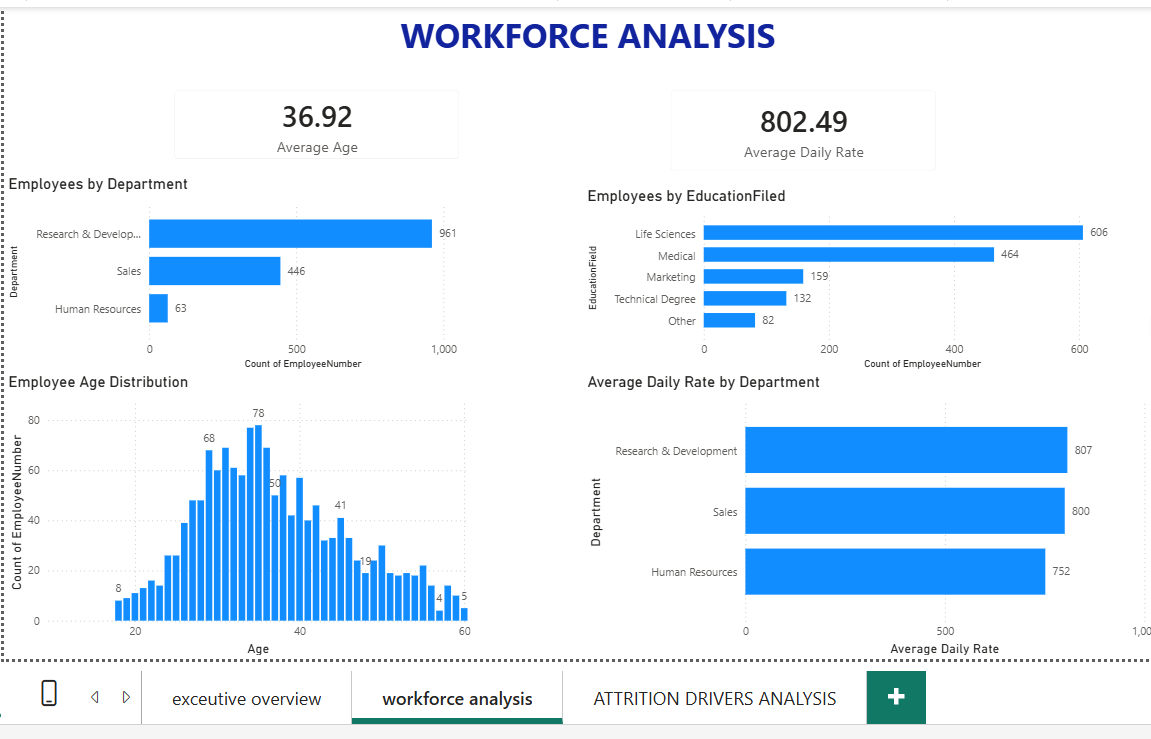

This screenshot's page, from the dashboard's own definition file:
{"tool":"powerbi","page":{"name":"workforce analysis","canvas":[1280,720],"ordinal":1},"visuals":[{"type":"textbox","box":[9.4,0,1269.9,75.6],"z":0},{"type":"cardVisual","fields":{"Data":["hr analytics.average age"]},"box":[171,75.4,349.3,110.3],"z":1000},{"type":"cardVisual","fields":{"Data":["hr analytics.average daily rate"]},"box":[718.7,75.4,327.2,123.2],"z":2000},{"type":"barChart","title":"Employees by Department","fields":{"Category":["hr analytics.Department"],"Y":["CountNonNull(hr analytics.EmployeeNumber)"]},"box":[0,185.7,520.2,218.7],"z":3000},{"type":"barChart","title":"Employees by EducationFiled","fields":{"Y":["Count(hr analytics.EmployeeNumber)"],"Category":["hr analytics.EducationField"]},"box":[639.7,198.5,639.7,205.9],"z":4000},{"type":"columnChart","title":"Employee Age Distribution","fields":{"Y":["Count(hr analytics.EmployeeNumber)"],"Category":["hr analytics.Age"]},"box":[0,404.4,520.2,316.2],"z":5000},{"type":"barChart","title":"Average Daily Rate by Department","fields":{"Category":["hr analytics.Department"],"Y":["hr analytics.average daily rate"]},"box":[639.7,404.4,639.7,316.2],"z":6000}]}

Visuals, with their boxes on the page's 1280x720 design canvas (x1, y1, x2, y2). These are canvas units, not pixel positions in the 1151x739 screenshot, which may show the page scaled, cropped or inside an application window:
textbox: left=9, top=0, right=1279, bottom=76
cardVisual - hr analytics.average age: left=171, top=75, right=520, bottom=186
cardVisual - hr analytics.average daily rate: left=719, top=75, right=1046, bottom=199
"Employees by Department" barChart: left=0, top=186, right=520, bottom=404
"Employees by EducationFiled" barChart: left=640, top=198, right=1279, bottom=404
"Employee Age Distribution" columnChart: left=0, top=404, right=520, bottom=721
"Average Daily Rate by Department" barChart: left=640, top=404, right=1279, bottom=721
